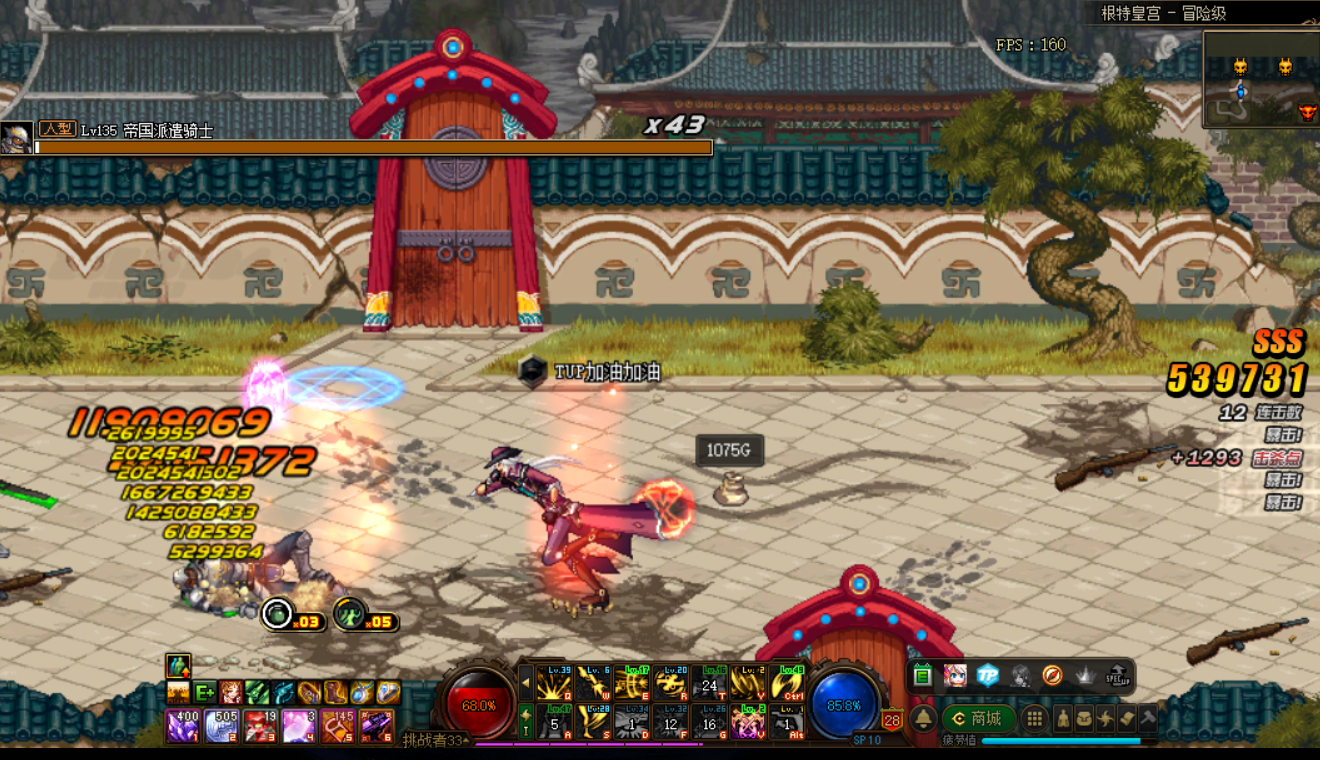monster: (155, 520, 379, 631)
warrior: (464, 427, 679, 622)
